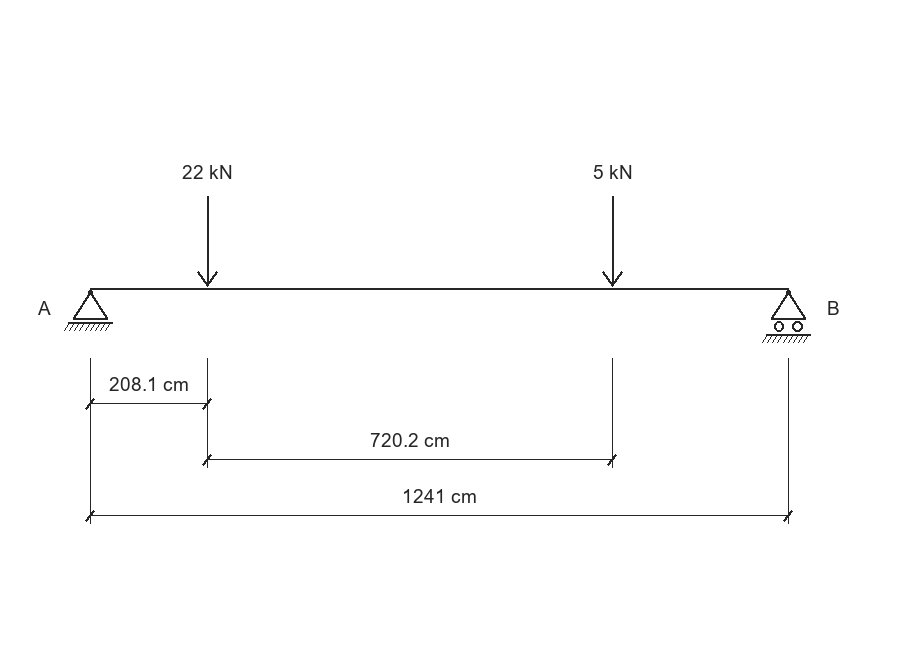pin_support: (64, 290, 113, 331)
point_load: (197, 196, 218, 287), (602, 196, 623, 287)
roller_support: (762, 290, 811, 343)
